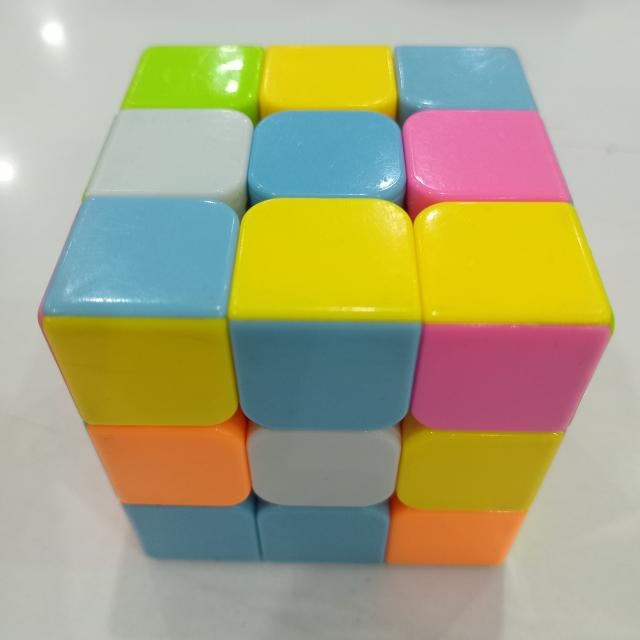back: (42, 46, 610, 323)
rubik: (32, 43, 621, 570)
up: (42, 317, 610, 565)
